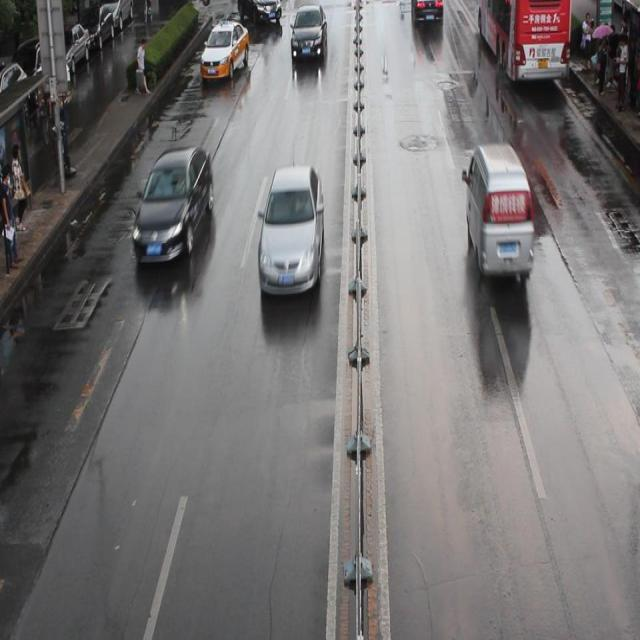car: (132, 145, 213, 266), (257, 164, 324, 297), (200, 18, 249, 82), (290, 1, 328, 64), (236, 1, 282, 25), (409, 1, 443, 26)
truck: (461, 141, 532, 276)
van: (472, 1, 570, 83)
